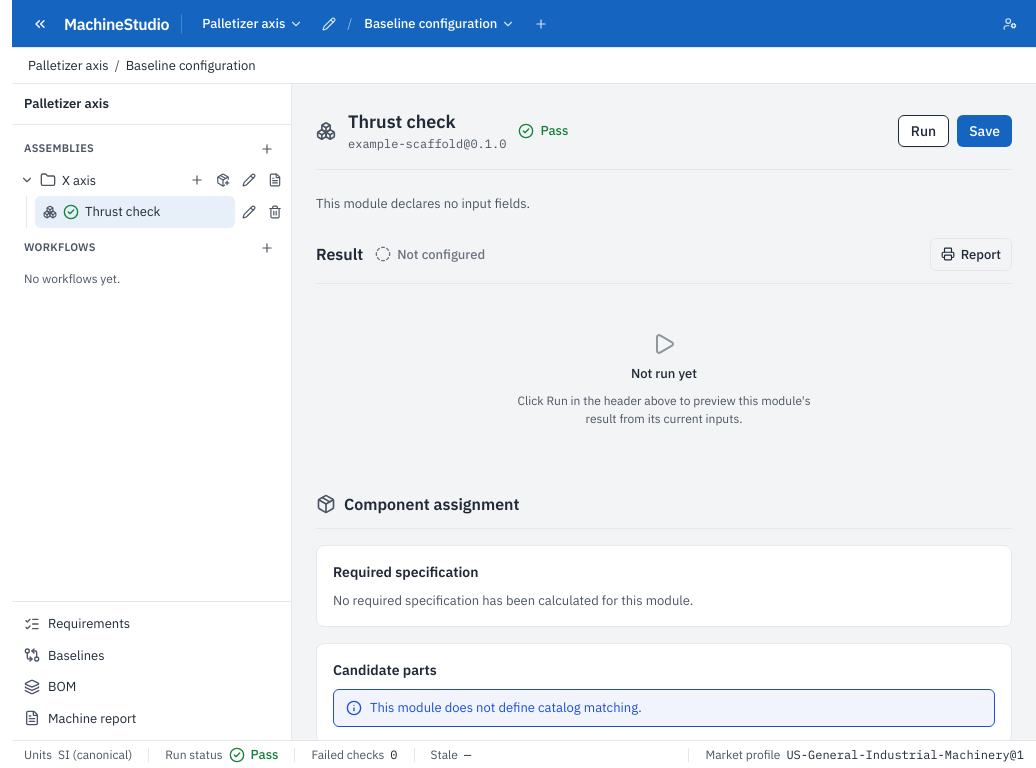
Test: WorkspaceShell › lifts a Run preview's catalog matching into the rendered ComponentAssignmentPanel
Check: the text "This module does not define catalog matching." is shown, box [370,698,642,718]
Step 1. Click the button "Run" → (924, 130), box [898,114,949,146]
(page scrolled)
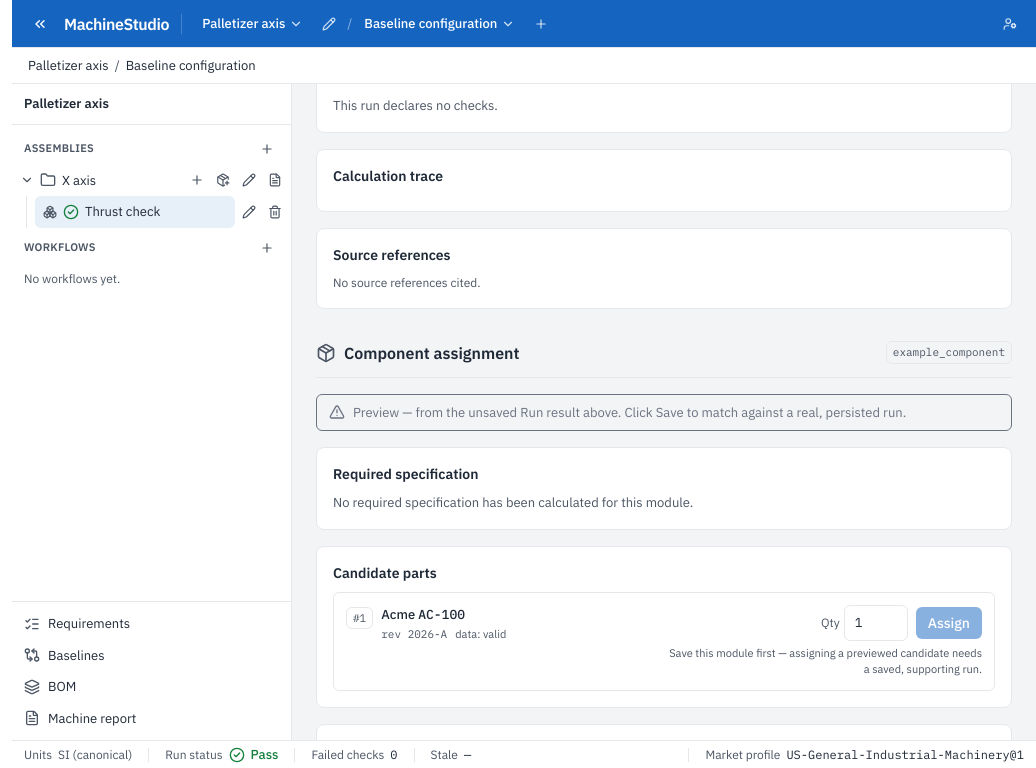
Check: the text "AC-100" is shown, box [418,606,465,622]
Check: the text "Preview — from the unsaved Run" is shown, box [353,404,906,420]
